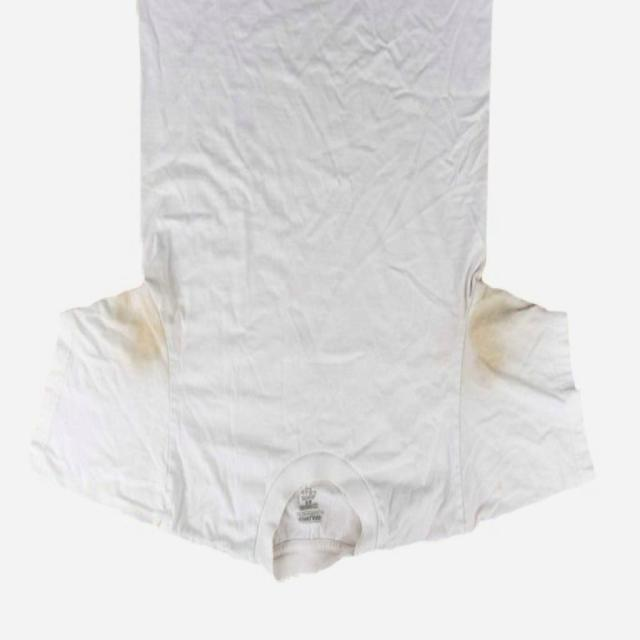stain: (110, 286, 186, 384), (461, 304, 519, 386)
